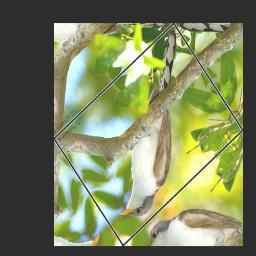Cuckoo: (61, 26, 239, 236)
